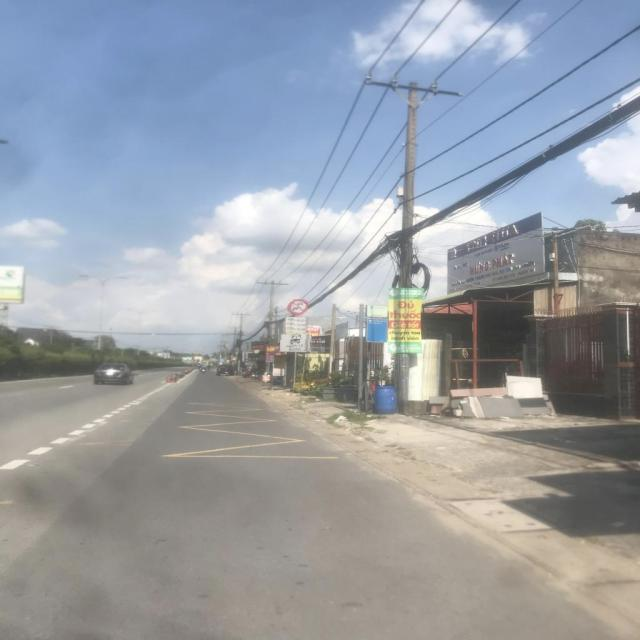cam_o_to_tai_va_xe_khach: (288, 299, 308, 316)
khac: (280, 334, 312, 352), (286, 317, 308, 333)
